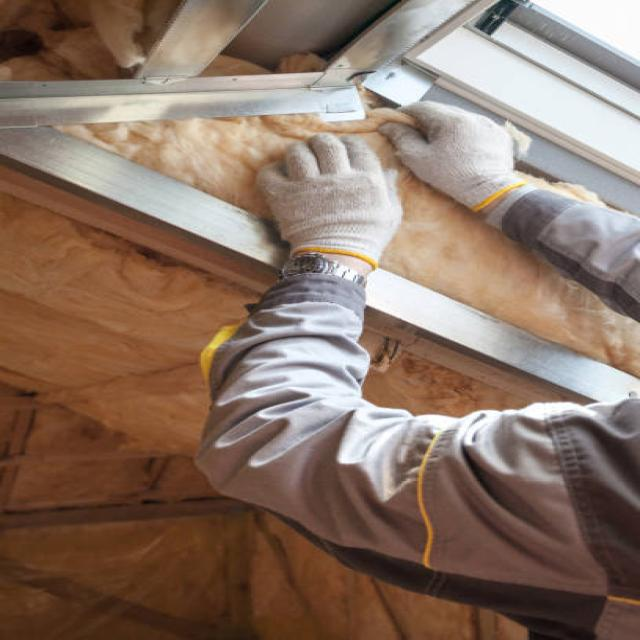gloves: (259, 133, 406, 271), (380, 100, 527, 212)
